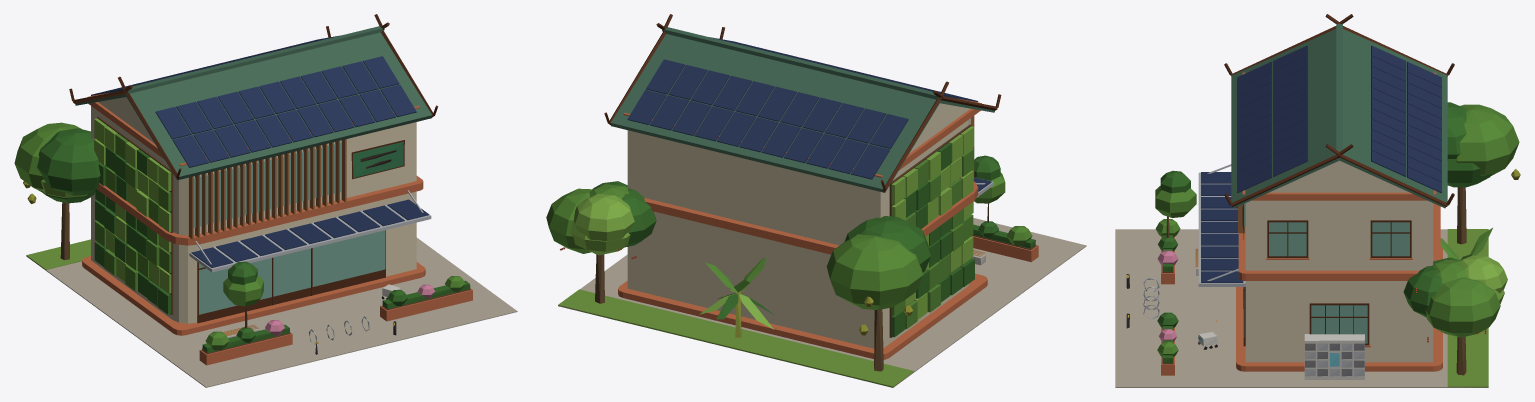
File: shop_2.glb
3 views of the same model, side by side, from view 1: azimuth 30°, elevation 25°; view 2: azimuth 150°, elevation 25°; view 3: azimuth 270°, elevation 25° (orthographic). The views are drawn at different scales.
Visible parts, largest first — view 1: body; view 2: body; view 3: body.
Part boxes in pixels (bbox=[...]): body: bbox=[14, 14, 517, 387]; body: bbox=[546, 14, 1086, 387]; body: bbox=[1115, 14, 1520, 387].
Bounding box in the file's own units: 17.48 × 10.84 × 17.27.
